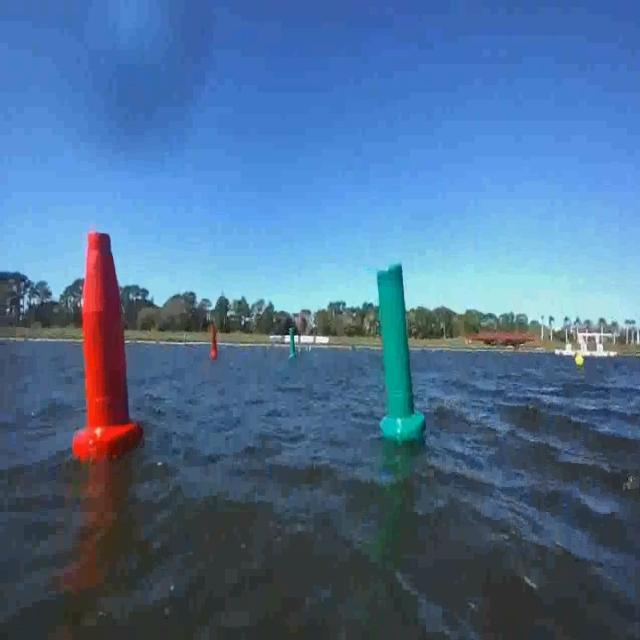green-column-buoy: (373, 261, 422, 441), (288, 330, 297, 360)
red-column-buoy: (72, 230, 140, 461), (210, 326, 220, 361)
yellow-buoy: (575, 352, 583, 368)
